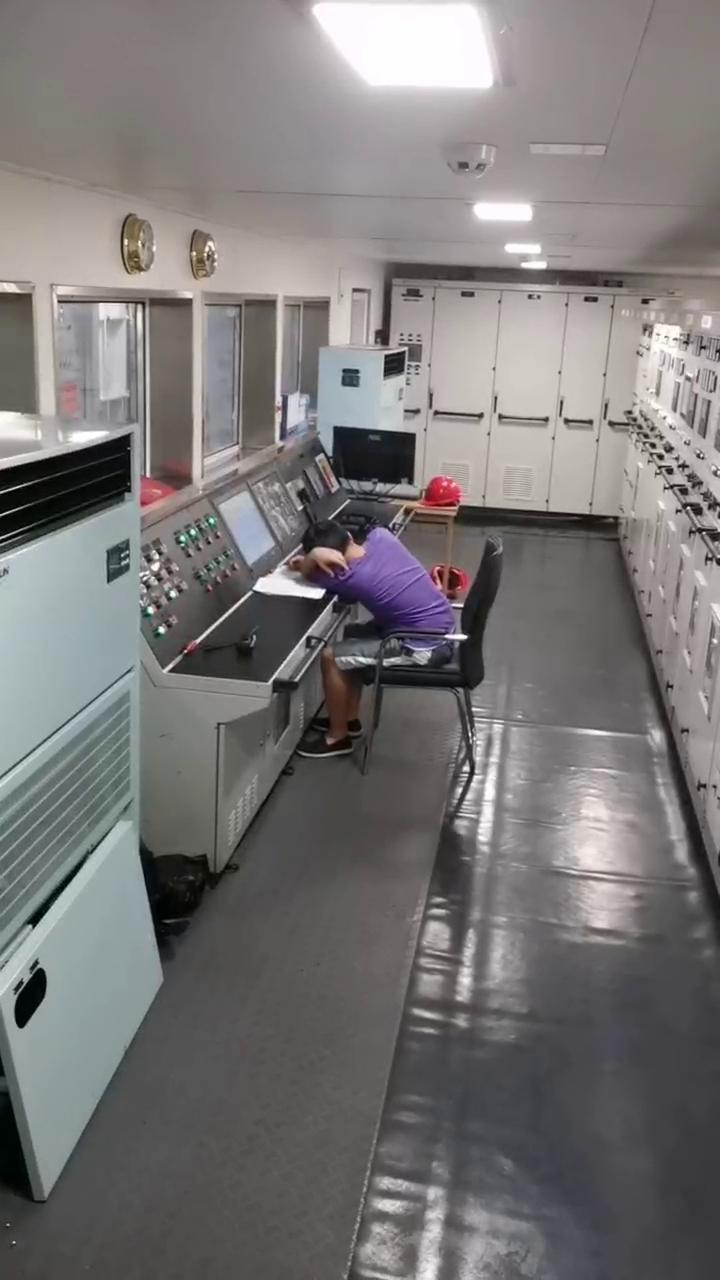sleep: (287, 524, 465, 670)
